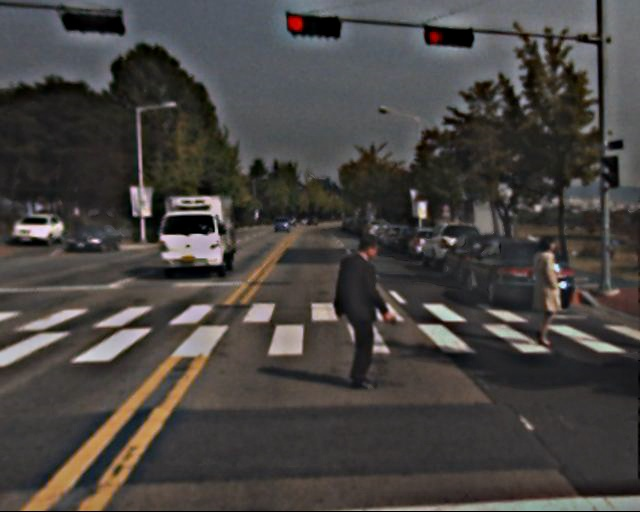person: (332, 235, 395, 389), (523, 237, 569, 348)
